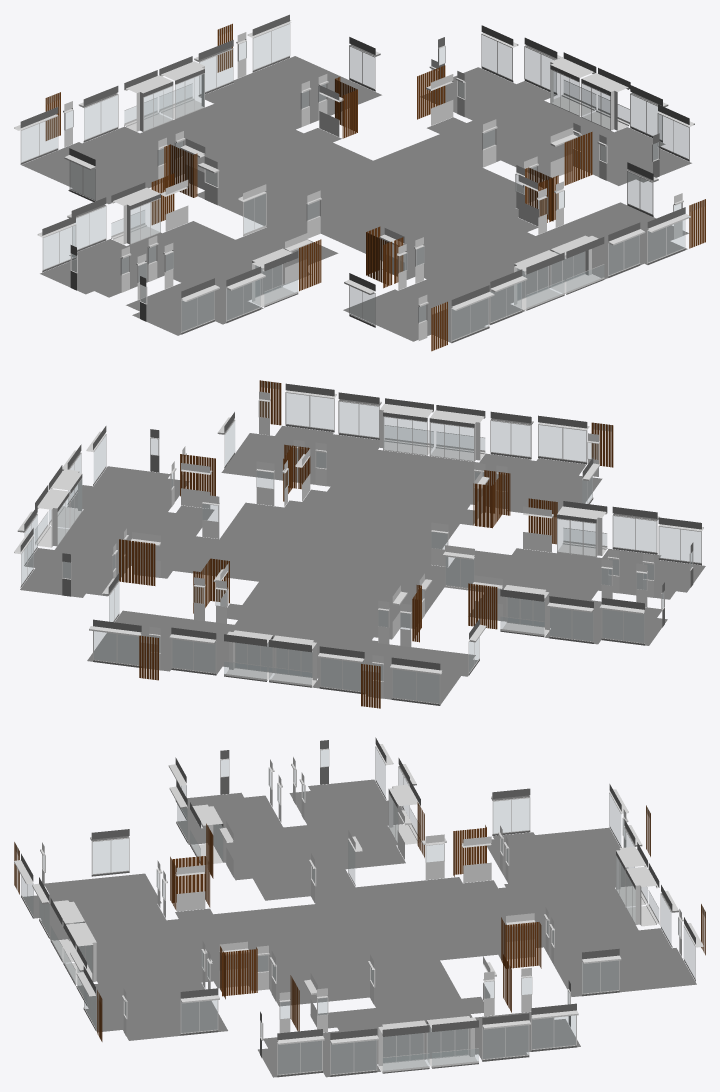
Rendered from 01_SM_T3_TypicalFloor.glb.
3 views of the same model, one above another, from view 1: azimuth 30°, elevation 25°; view 2: azimuth 150°, elevation 25°; view 3: azimuth 270°, elevation 25° (orthographic). The views are drawn at different scales.
Parts seen in each view (by area): view 1: SM_Tower_03_TypicalFloor; view 2: SM_Tower_03_TypicalFloor; view 3: SM_Tower_03_TypicalFloor.
Part boxes in pixels (box(x1,y1,x2,y2)): SM_Tower_03_TypicalFloor: box(14, 14, 705, 351); SM_Tower_03_TypicalFloor: box(14, 380, 705, 708); SM_Tower_03_TypicalFloor: box(14, 737, 705, 1077).
Size of the model in its own units: 2.24 by 0.1525 by 2.18.
6 materials, 1 textured.
